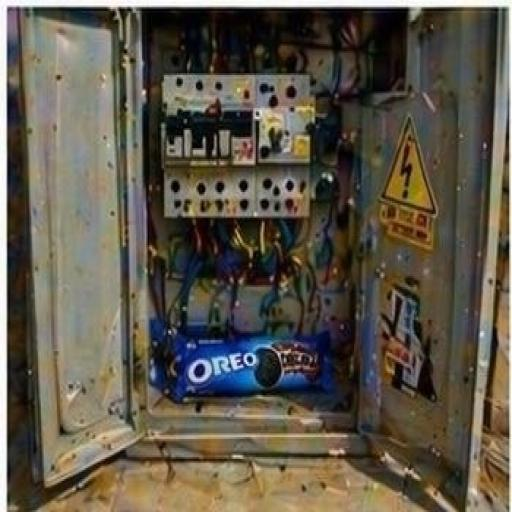oreo: (118, 278, 390, 456)
